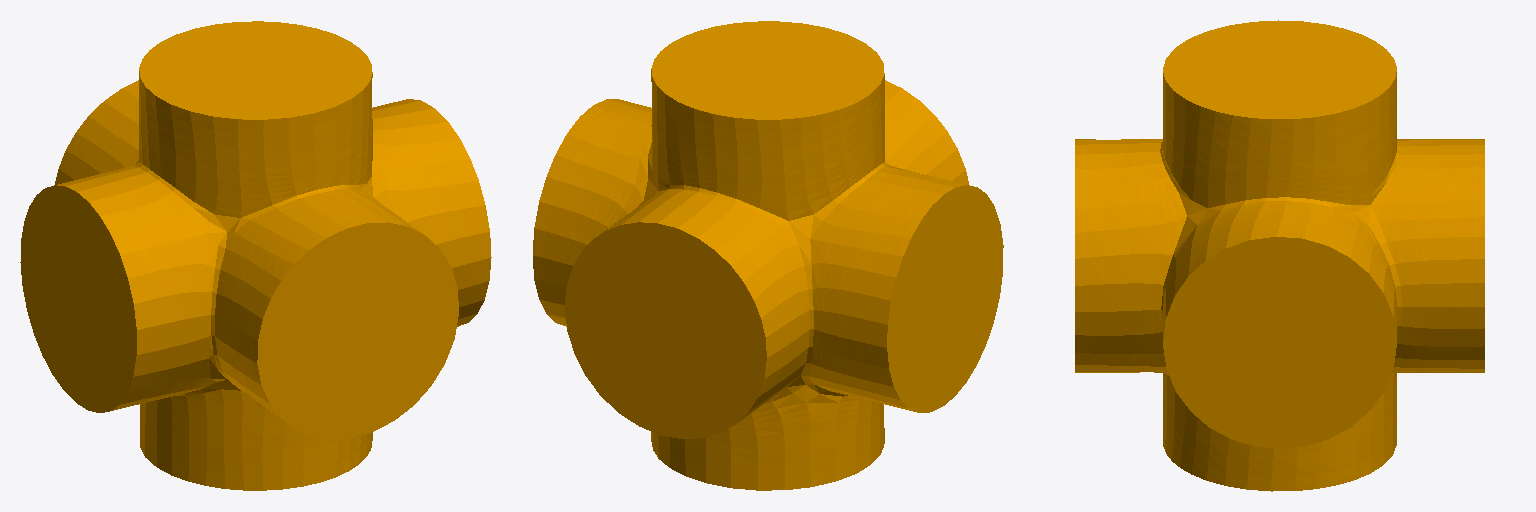
URDF robot description (object):
<robot name="object">
  <link name="object">
    <visual>
      <origin xyz="0 0 0"/>
      <geometry>
        <mesh filename="visual.obj" scale="1 1 1"/>
      </geometry>
    </visual>
    <collision>
      <origin xyz="0 0 0"/>
      <geometry>
        <mesh filename="visual.obj" scale="1 1 1"/>
      </geometry>
    </collision>
    <inertial>
      <mass value="0.05"/>
      <inertia ixx="4.783757838365674e-05" iyy="4.78319584593208e-05" izz="4.7822693180679425e-05" ixy="-7.307185826098134e-10" ixz="1.063030905430561e-09" iyz="-9.302660686408524e-09"/>
    </inertial>
  </link>
</robot>

--- What the picture shows (computed from the rendered views, not written in the file) ---
The picture shows the robot from 3 angles, left to right: view 1: azimuth 30°, elevation 25°; view 2: azimuth 150°, elevation 25°; view 3: azimuth 270°, elevation 25°; orthographic projection.
Model object with 1 links and 0 joints (none), rooted at object, posed all joints at 0.
Visible links, largest first — view 1: object; view 2: object; view 3: object.
Link boxes in pixels (<box>): object: <box>20,21,491,490</box>; object: <box>533,21,1003,490</box>; object: <box>1075,20,1484,491</box>.
Size in the robot's own frame: 0.096 by 0.096 by 0.096 metres.
1 mesh visuals loaded from 1 distinct referenced files (1 OBJ).
